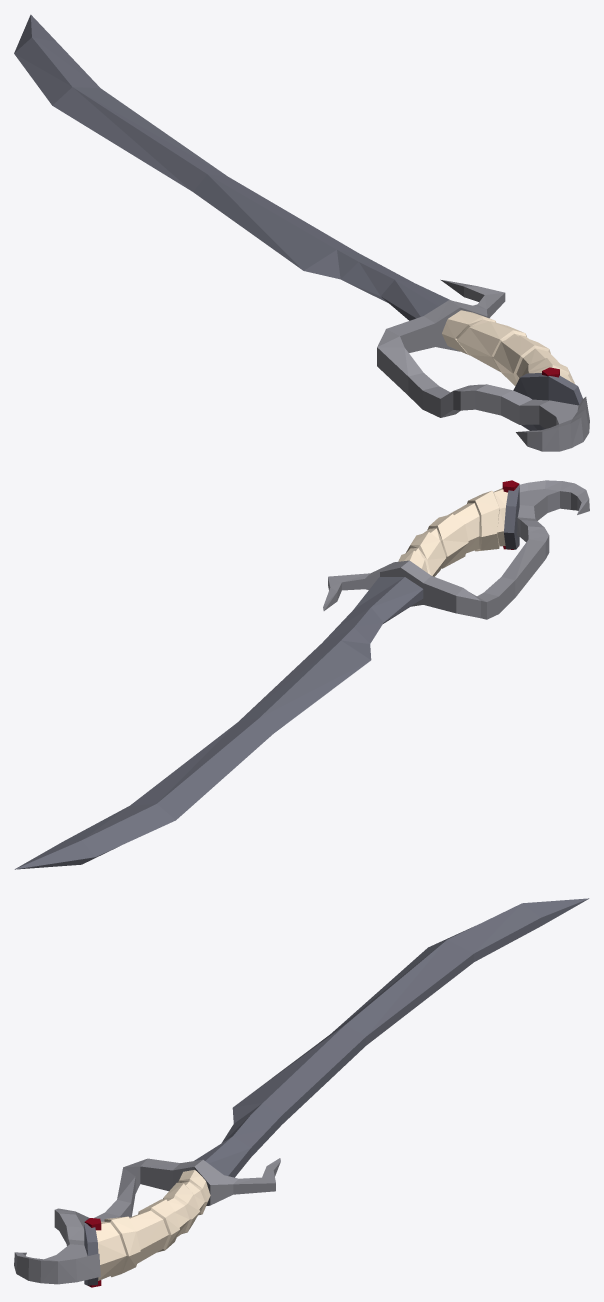
The model's file is sword_6.glb.
3 renders of one model, top to bottom at view 1: azimuth 30°, elevation 25°; view 2: azimuth 150°, elevation 25°; view 3: azimuth 330°, elevation 25°, orthographic. The views are drawn at different scales.
Visible parts, largest first — view 1: sword_6; view 2: sword_6; view 3: sword_6.
Boxes of the visible parts, <box> form: sword_6: <box>14,14,589,451</box>; sword_6: <box>14,480,589,869</box>; sword_6: <box>14,898,589,1287</box>.
Size of the model in its own units: 0.1319 by 0.0647 by 0.8837.
1 material, 1 textured.
